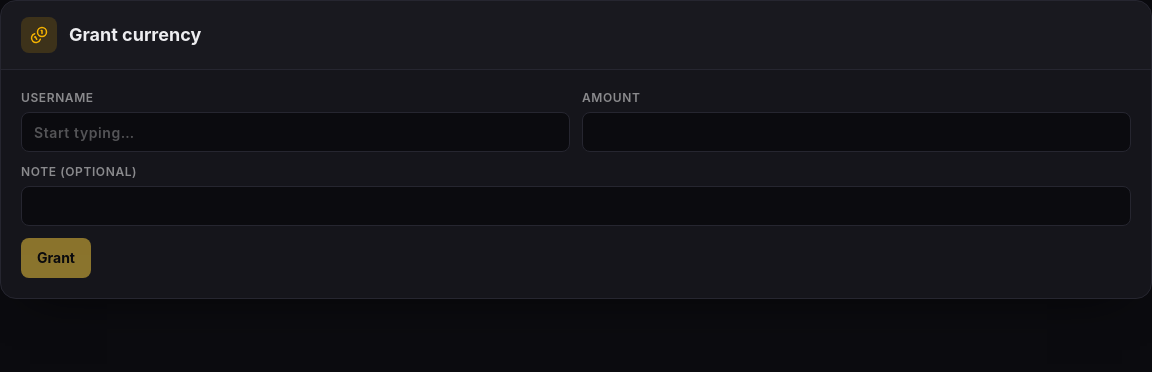
Test: GrantPanel › names the player, shows the new balance and clears the form
Type "sa" into the dropdown labelled "Username".
click(296, 132); type("sa")  # box [21,112,570,152]
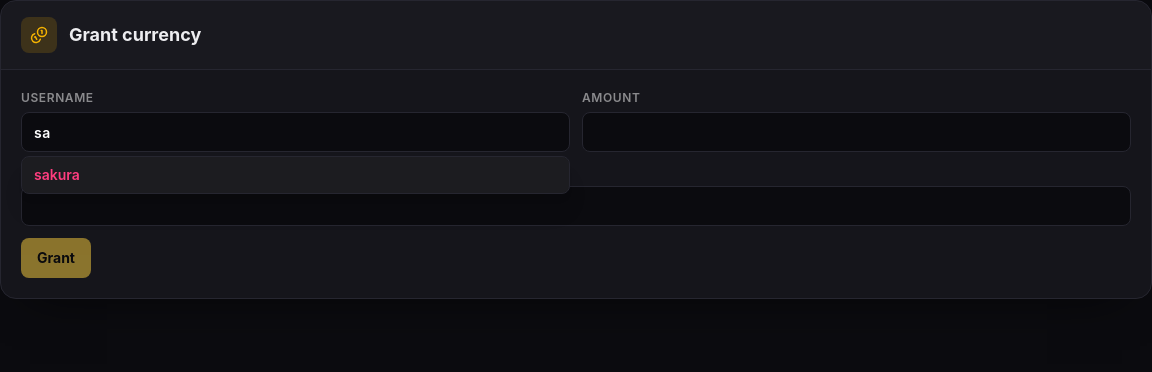
Click the option "sakura".
click(57, 174)  # box [22,157,569,193]
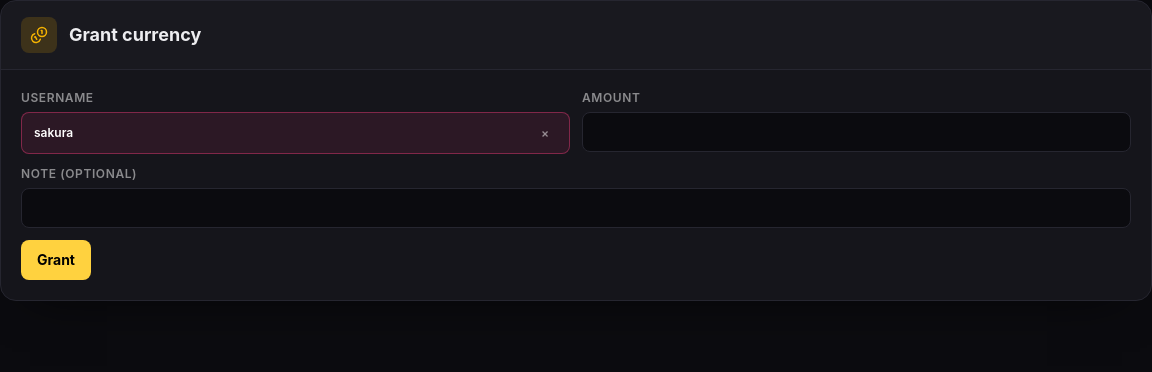
Type "1000" into the number field labelled "Amount".
click(856, 132); type("1000")  # box [582,112,1131,152]
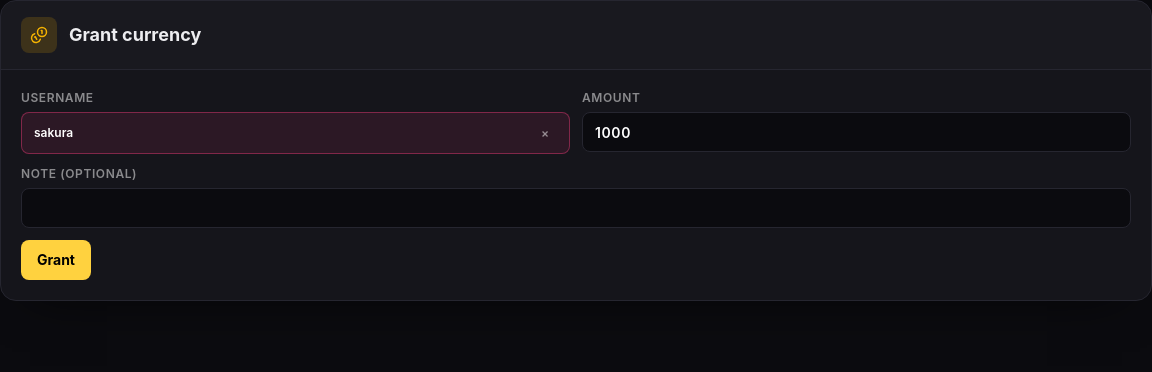
Click the button "Grant".
click(56, 260)  # box [21,240,91,280]
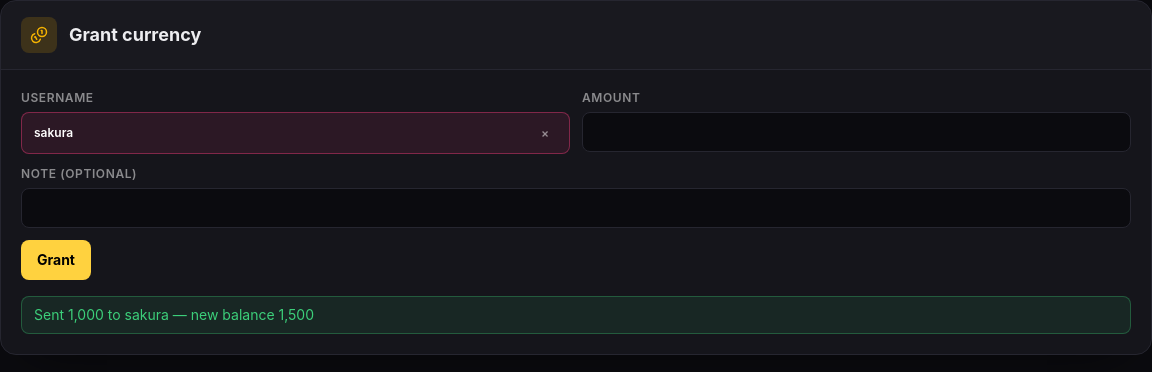
Expected: the field labelled "Note (optional)" is empty, [21,188,1131,228]
Expected: the text "Sent 1,000 to sakura — new balance 1,500" is shown, [21,296,1131,334]
Expected: the number field labelled "Amount" is not empty, [582,112,1131,152]
